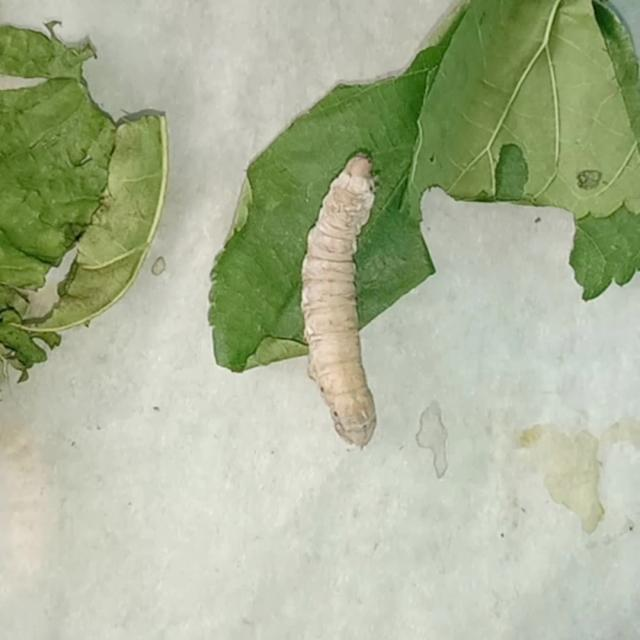Grasserie: (278, 134, 442, 490)
